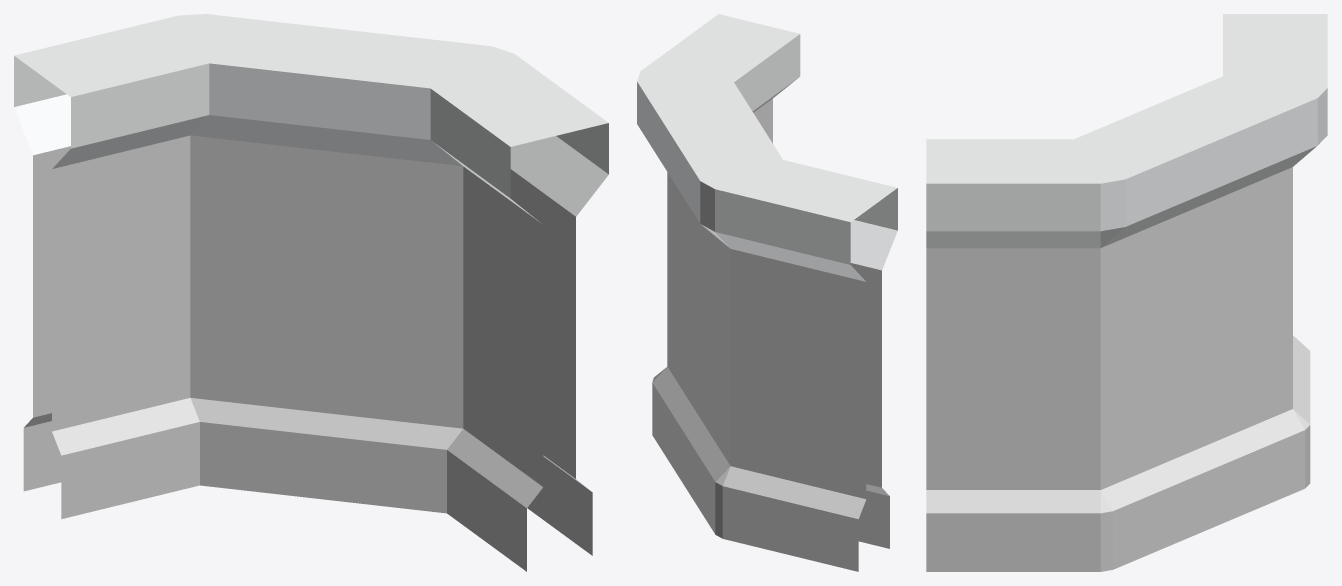
Rendered from wall_s_m.fbx.
3 renders of one model, left to right at view 1: azimuth 30°, elevation 25°; view 2: azimuth 150°, elevation 25°; view 3: azimuth 270°, elevation 25°, orthographic. The views are drawn at different scales.
Parts seen in each view (by area): view 1: wall_s_m; view 2: wall_s_m; view 3: wall_s_m.
Boxes of the visible parts, bbox=[...] form: wall_s_m: bbox=[14, 14, 608, 571]; wall_s_m: bbox=[637, 14, 897, 571]; wall_s_m: bbox=[926, 14, 1327, 571].
Bounding box in the file's own units: 2.3 × 2.5 × 2.3.
